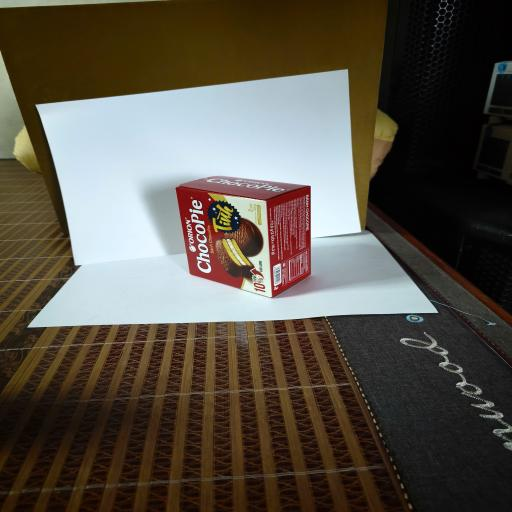chocopie: (175, 176, 312, 298)
